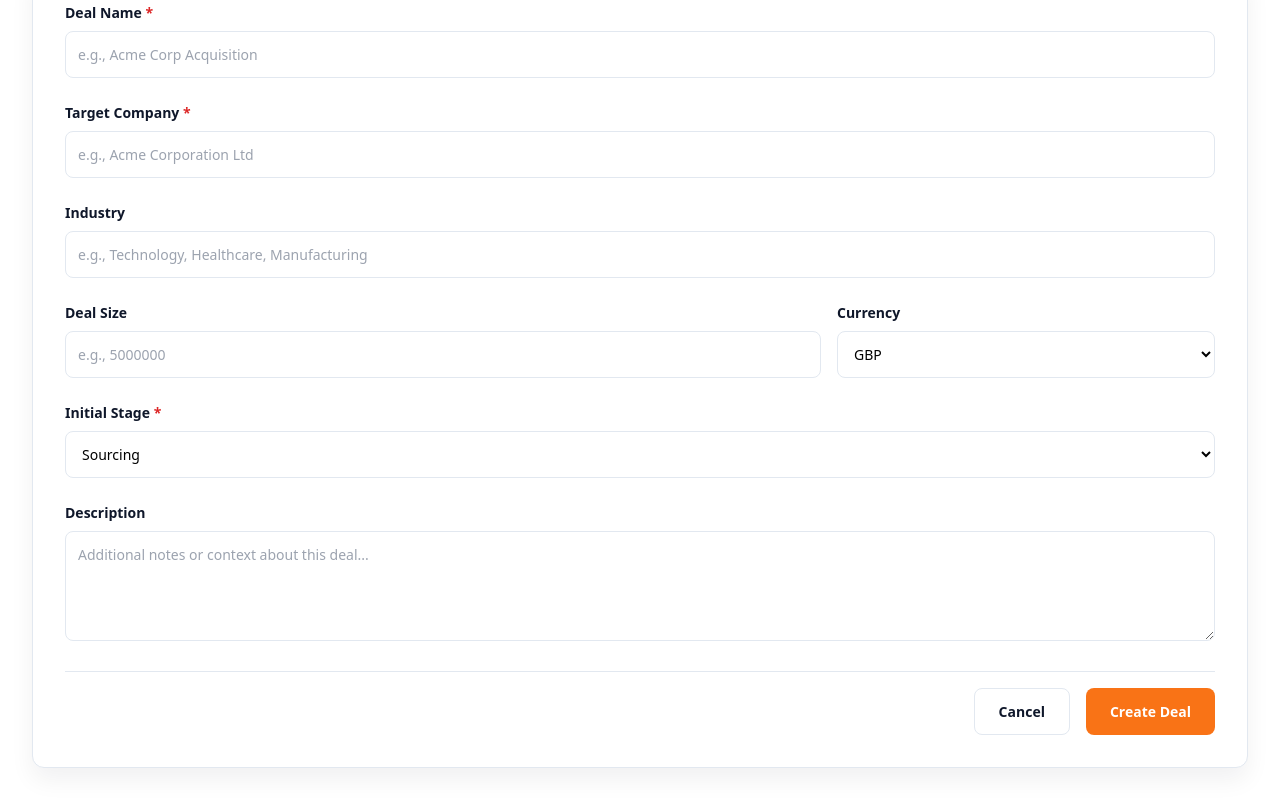
Test: NewDealPage › shows validation errors when required fields missing
The image size is (1280, 800).
(page scrolled)
Click the button "Create Deal" at (1150, 712), box [1086,688,1215,735]
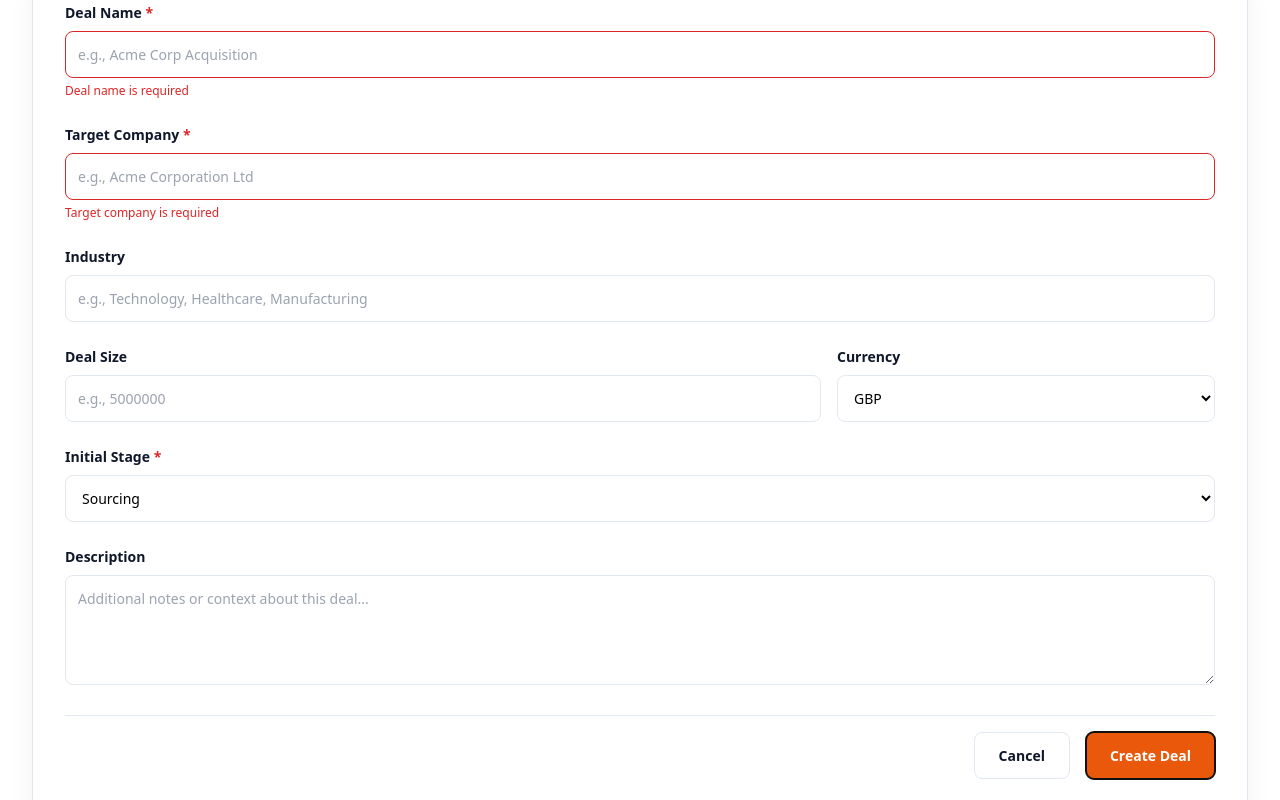
Expected: the text "Deal name is required" is shown, [65,82,189,99]
Expected: the text "Target company is required" is shown, [65,204,219,221]
